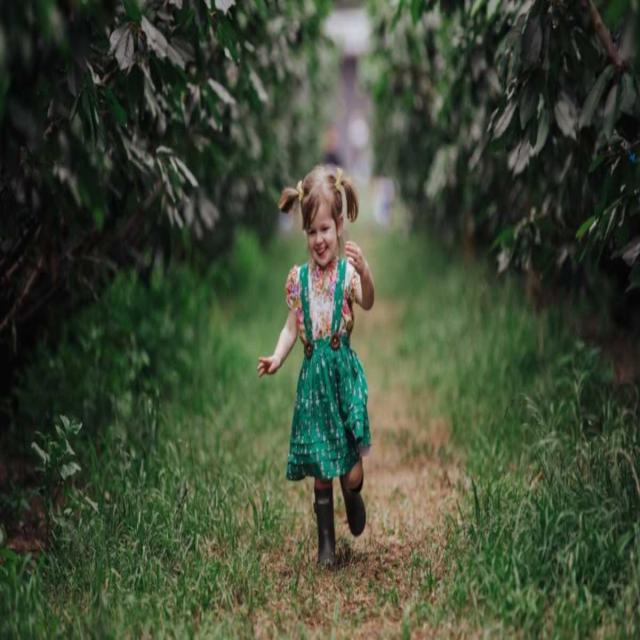Person: (257, 169, 374, 564)
